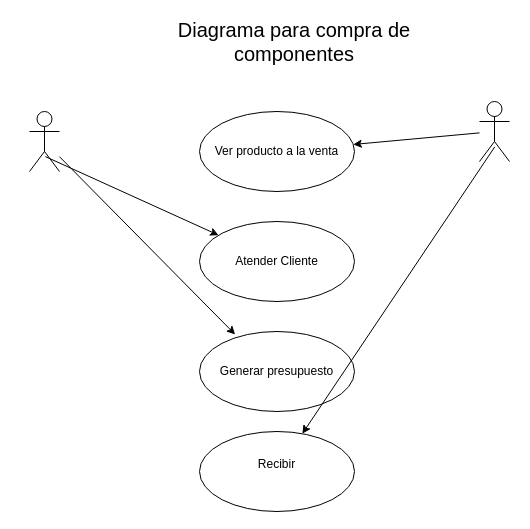
The diagram is 530 pixels wide and 529 high, and some of its shapes have lost their labels. Each missing label, with the centre of its shape:
Cliente: (494,131)
Empleado: (44,141)
